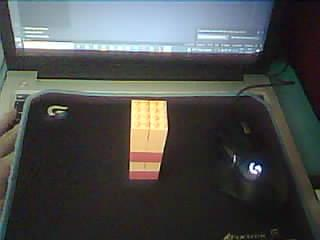lego: (129, 99, 168, 181)
